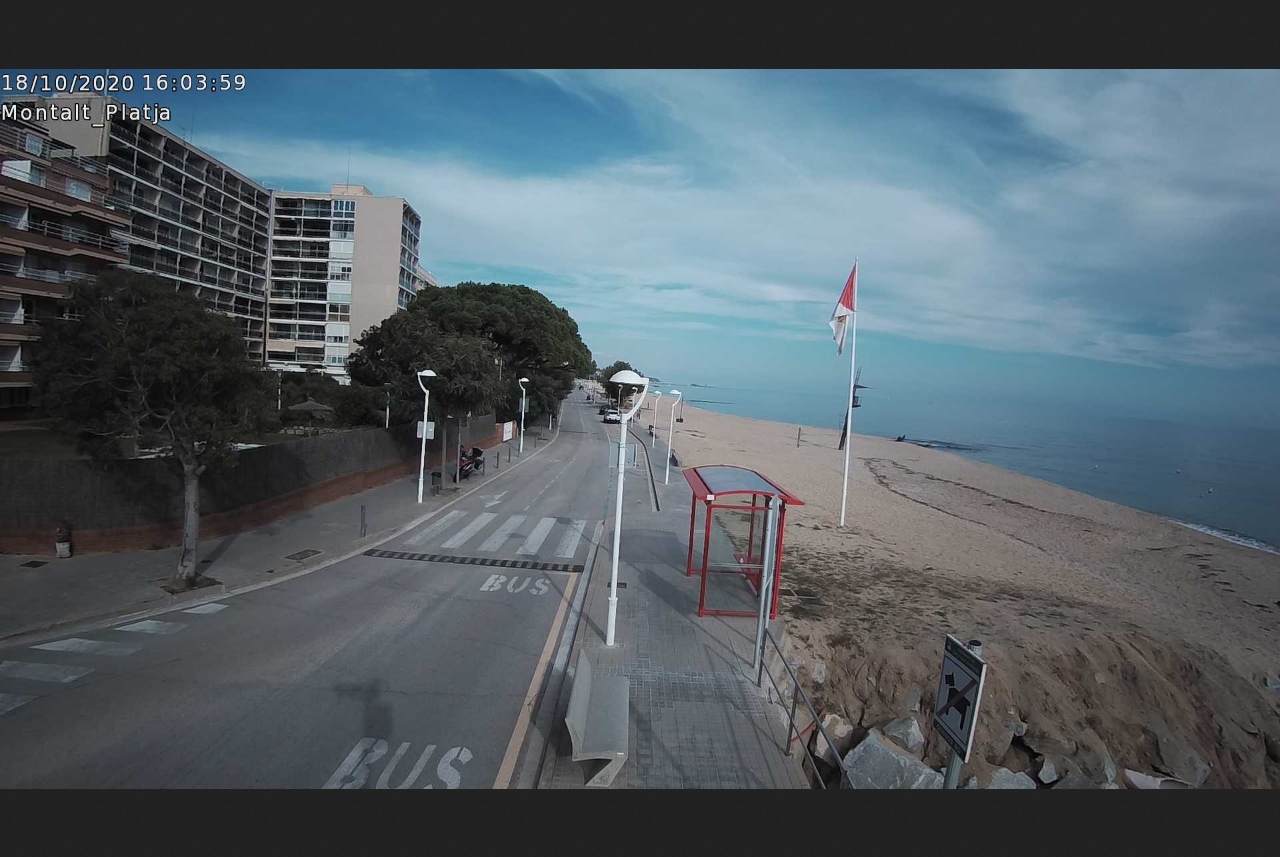no: (830, 260, 857, 358)
